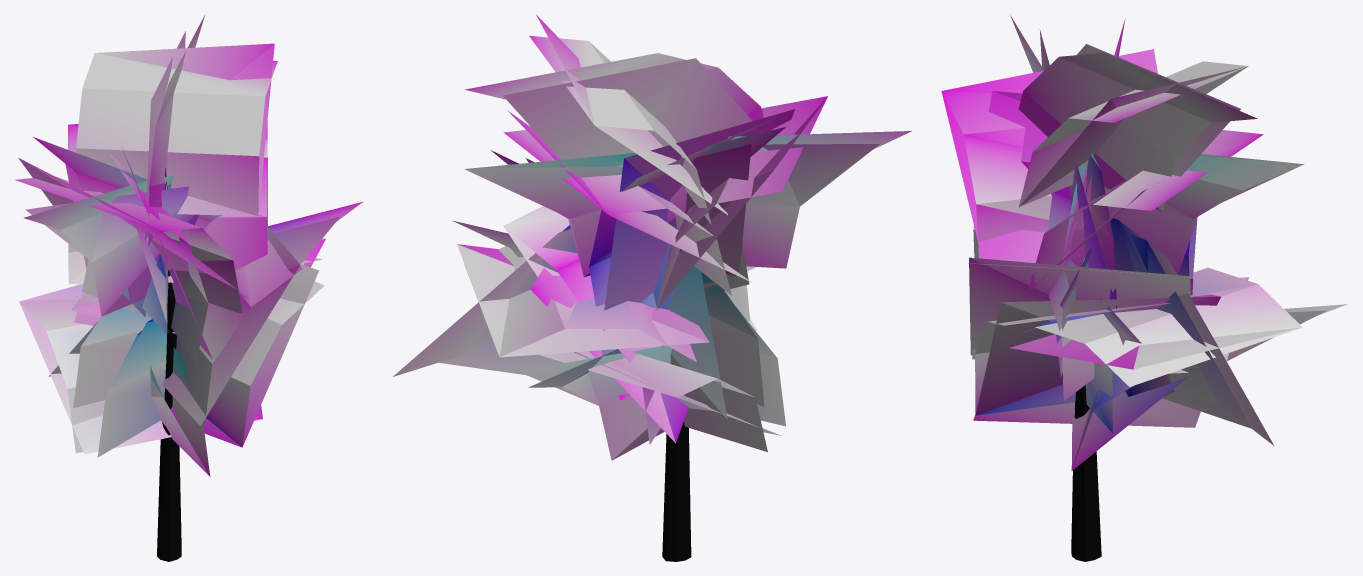
File: ekasia_tumula_01_small_b.dae
3 renders of one model, left to right at view 1: azimuth 30°, elevation 25°; view 2: azimuth 150°, elevation 25°; view 3: azimuth 270°, elevation 25°, orthographic. The views are drawn at different scales.
Parts seen in each view (by area): view 1: ekasia160, ekasia80; view 2: ekasia80, ekasia160; view 3: ekasia160, ekasia80.
Boxes of the visible parts, bbox=[...] form: ekasia160: bbox=[14, 15, 362, 559]; ekasia80: bbox=[18, 31, 340, 561]; ekasia80: bbox=[439, 14, 879, 561]; ekasia160: bbox=[393, 35, 911, 560]; ekasia160: bbox=[941, 15, 1347, 561]; ekasia80: bbox=[941, 29, 1326, 561].
Size of what is drawn, in the model's own units: 10.05 by 8.92 by 12.55.
